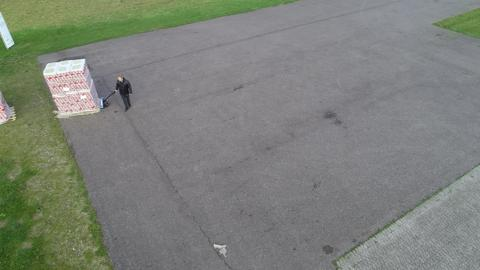RockwoolPallet: (45, 62, 104, 116)
